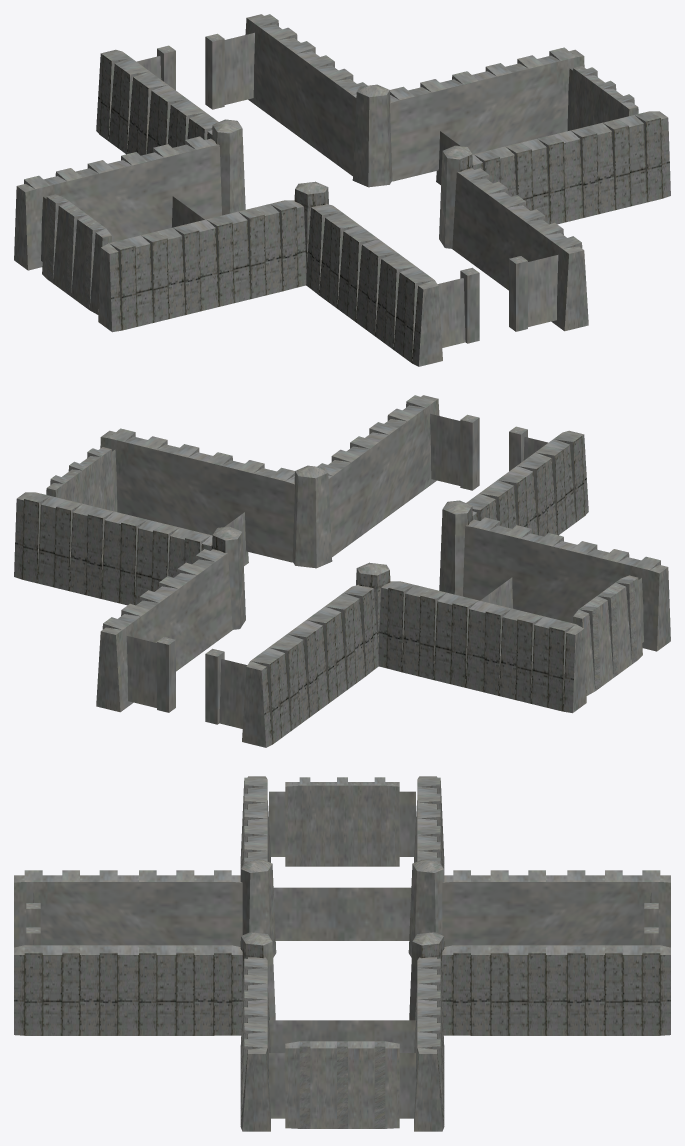
File: poi_all_impl_corral_64x64_s02_l1.fbx
3 renders of one model, top to bottom at view 1: azimuth 30°, elevation 25°; view 2: azimuth 150°, elevation 25°; view 3: azimuth 270°, elevation 25°, orthographic.
Visible parts, largest first — view 1: mesh_node; view 2: mesh_node; view 3: mesh_node.
Part boxes in pixels (bbox=[...]): mesh_node: bbox=[14, 14, 670, 366]; mesh_node: bbox=[14, 395, 670, 747]; mesh_node: bbox=[14, 776, 670, 1131].
Bounding box in the file's own units: 46 × 8.4 × 46.
Materials: 1 (1 with a texture image).
